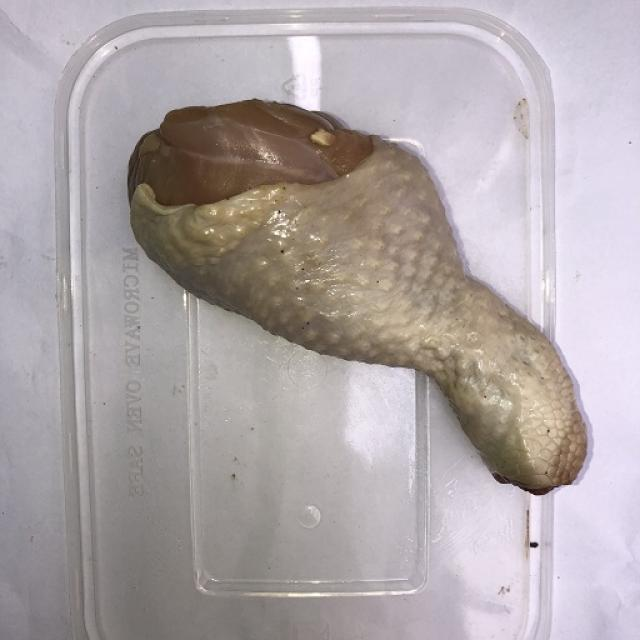chicken: (126, 96, 588, 496)
